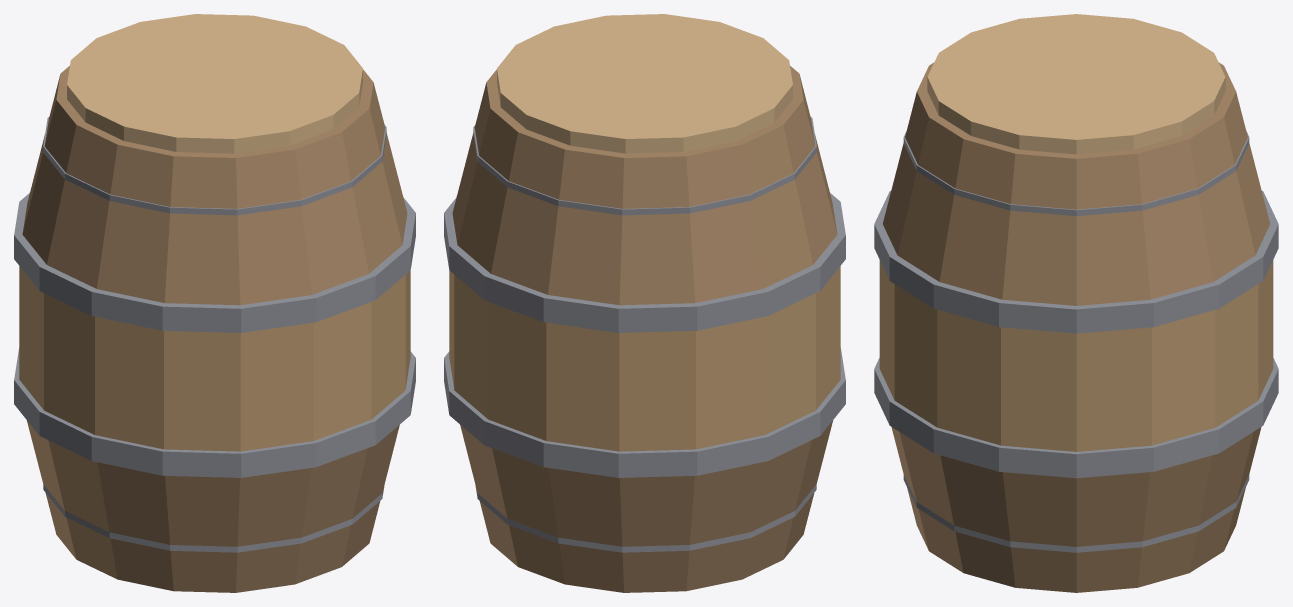
The model's file is ws_camp_barrel.glb.
3 views of the same model, side by side, from view 1: azimuth 30°, elevation 25°; view 2: azimuth 150°, elevation 25°; view 3: azimuth 270°, elevation 25° (orthographic).
Visible parts, largest first — view 1: ws_camp_barrel; view 2: ws_camp_barrel; view 3: ws_camp_barrel.
Part boxes in pixels (left/top/right/bottom): ws_camp_barrel: left=14, top=14, right=415, bottom=592; ws_camp_barrel: left=444, top=14, right=845, bottom=592; ws_camp_barrel: left=874, top=14, right=1278, bottom=592.
Size of the model in its own units: 0.76 by 0.93 by 0.76.
